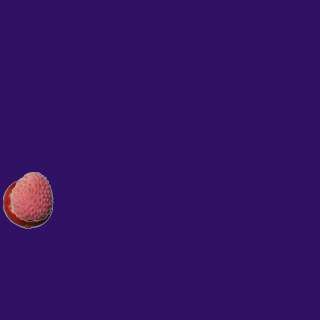Apple Braeburn: (2, 178, 52, 228)
Lychee: (6, 171, 56, 221)
